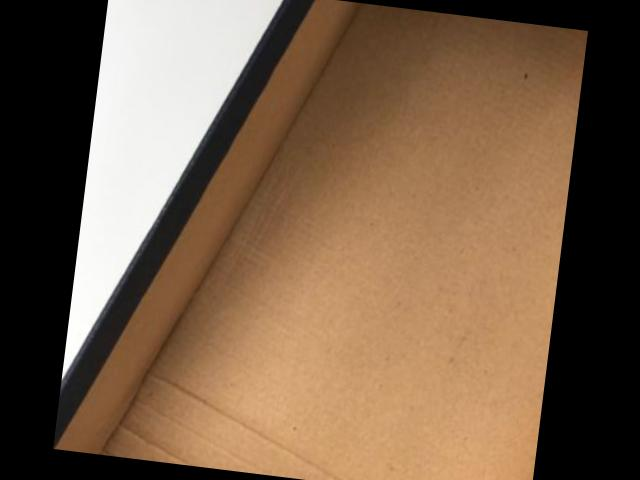cardboard paper: (58, 0, 587, 480)
